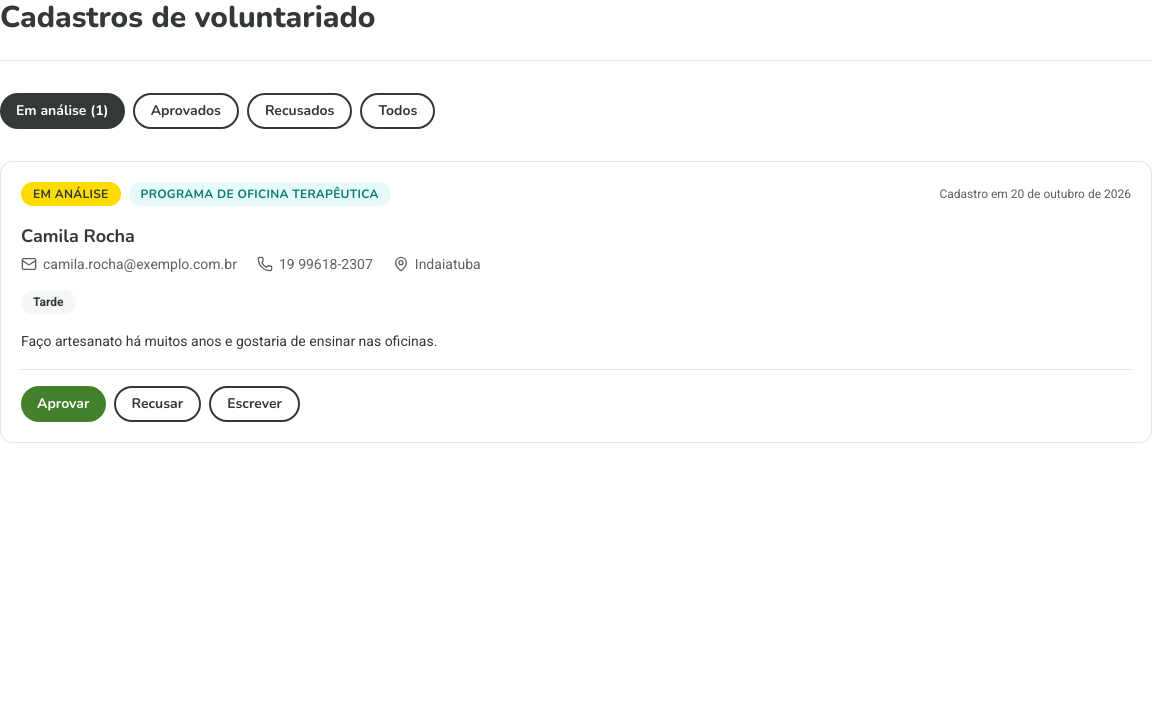
Test: coordenação do voluntariado › aprova um cadastro e põe a pessoa na escala
Expected: the heading "Camila Rocha" is shown, [21, 224, 135, 248]
Step 1. Click the button "Aprovar" → (63, 404), box [21, 386, 106, 422]
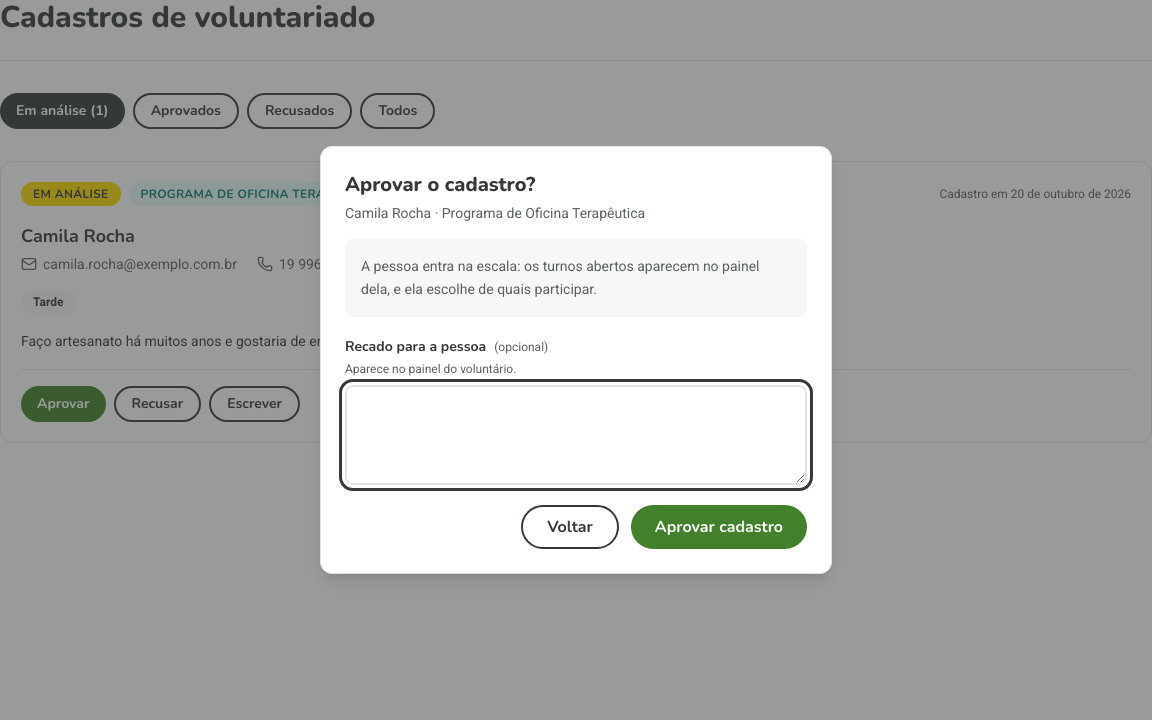
Step 2. Click the button "Aprovar cadastro" → (719, 527), box [631, 505, 807, 549]
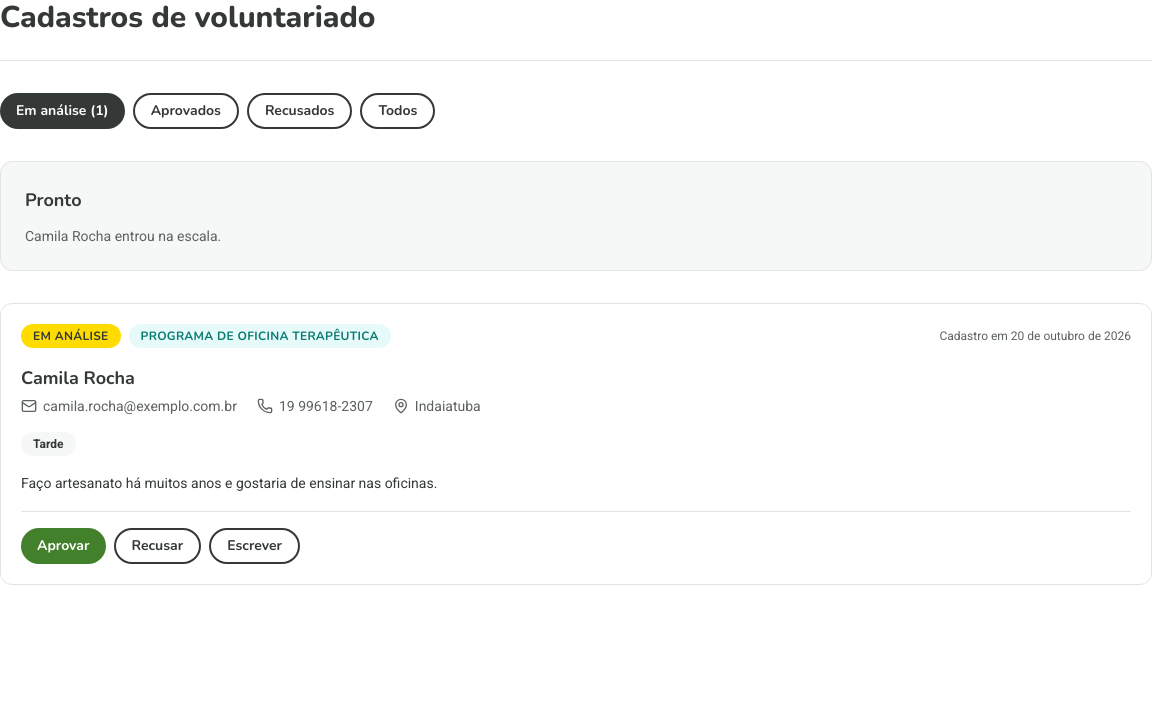
Now the text "Camila Rocha entrou na escala." is shown, box [25, 226, 221, 246]
